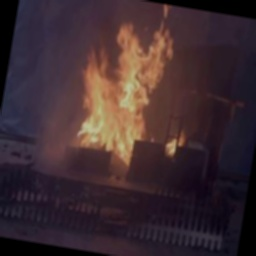fire: (56, 0, 180, 177)
